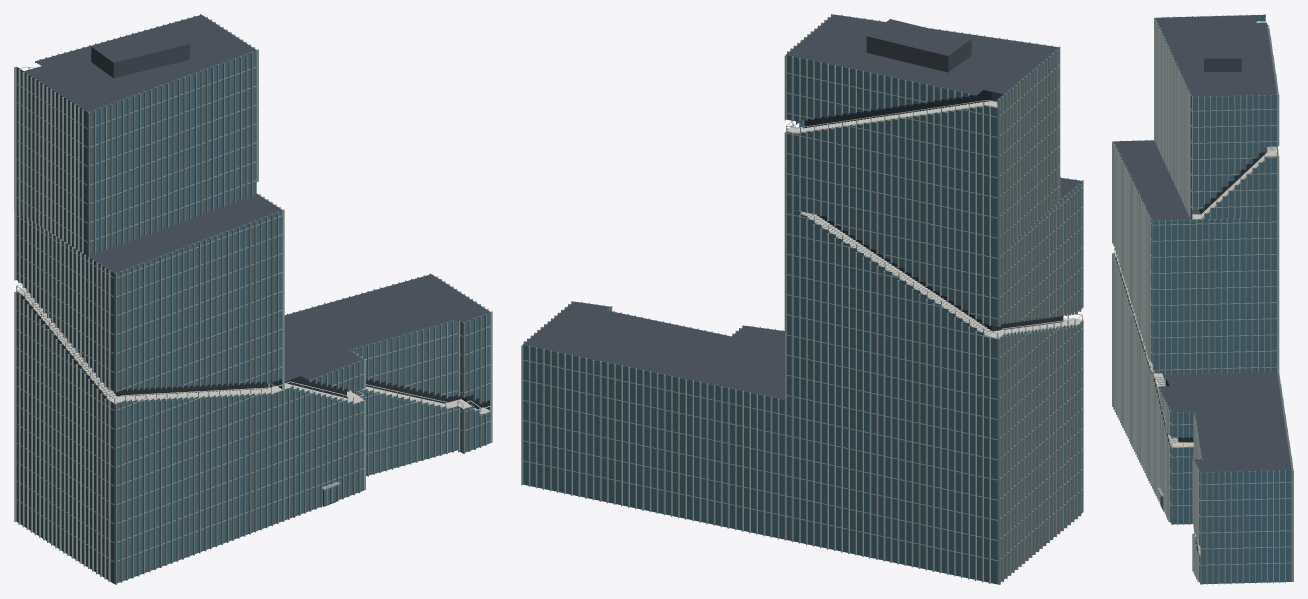
Rendered from vinoly.glb.
The picture shows the model from 3 angles, left to right: view 1: azimuth 30°, elevation 25°; view 2: azimuth 150°, elevation 25°; view 3: azimuth 270°, elevation 25°; orthographic projection. The views are drawn at different scales.
Visible parts, largest first — view 1: vinoly; view 2: vinoly; view 3: vinoly.
Part boxes in pixels (x1=…): vinoly: x1=14, y1=14, x2=492, y2=584; vinoly: x1=521, y1=14, x2=1083, y2=584; vinoly: x1=1112, y1=14, x2=1293, y2=584.
Bounding box in the file's own units: 92.09 × 94.05 × 38.61.
